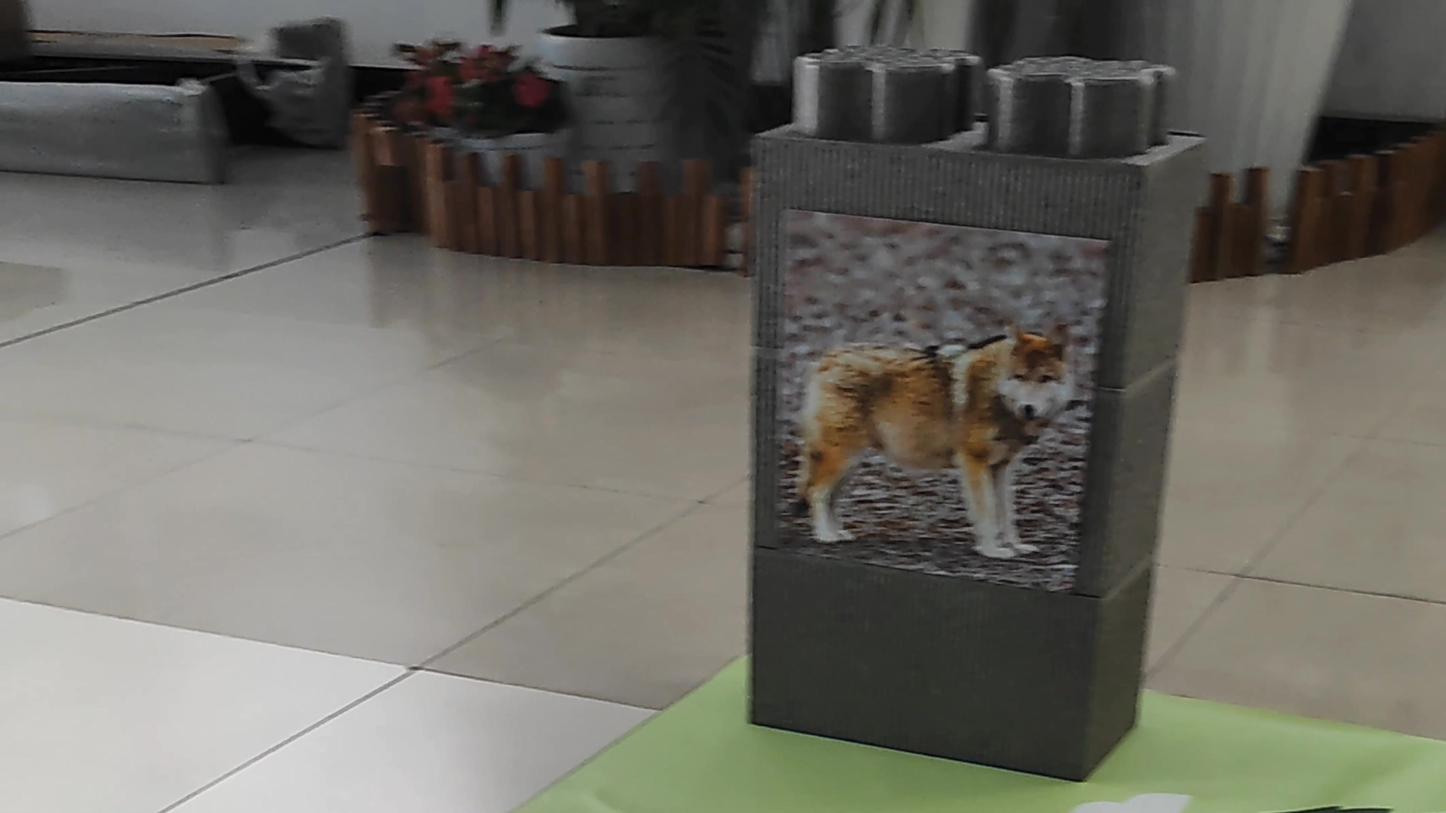wolf: (764, 247, 1081, 558)
